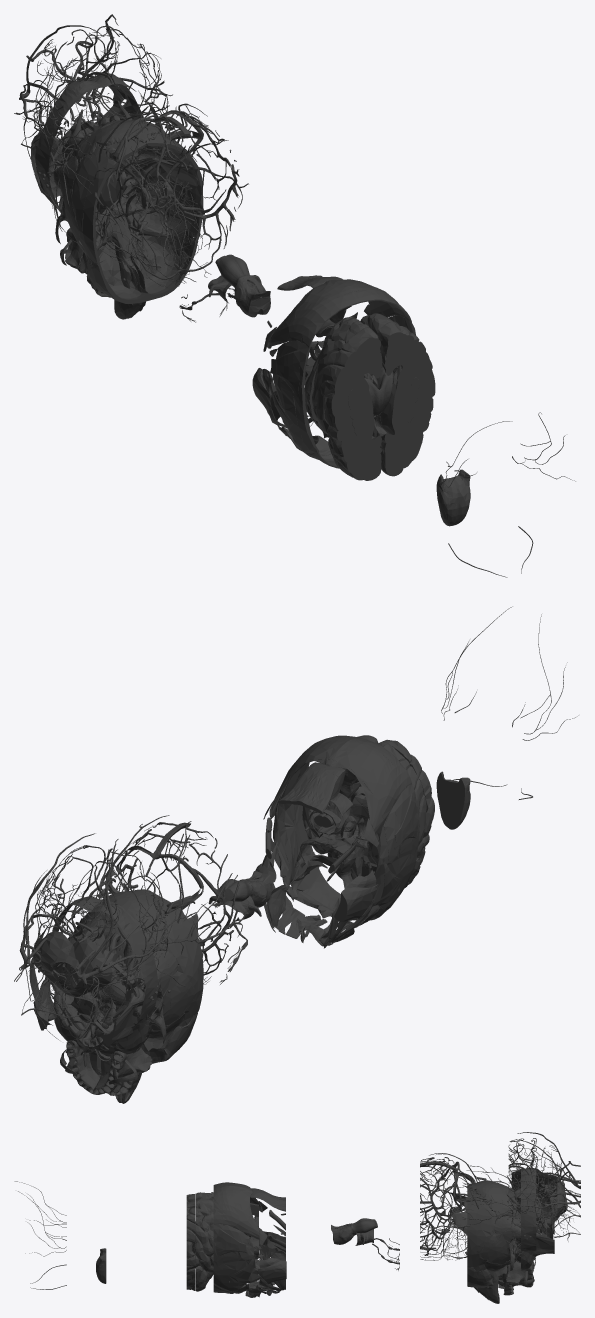
Rendered from sharedassets106.glb.
3 views of the same model, one above another, from view 1: azimuth 30°, elevation 25°; view 2: azimuth 150°, elevation 25°; view 3: azimuth 270°, elevation 25° (orthographic). The views are drawn at different scales.
Visible parts, largest first — view 1: 0645_Cerebrum, R__002137-01, 0650_Cerebrum, L__002124-01, 0793_Frontal__001097-02, 0529_Dura mater__020364-02, 1136_Cerebrum, R__002137-02, 0418_Parietal, R__001095-01, 0723_Tongue__1000432-05, 0433_Frontal__001097-01, 0761_Parietal, R__001095-02, 0841_Occipitofrontalis _epicranius_, R__10004, 0443_Occipitofrontalis _epicranius_, R__10004, 0458_Temporalis, R__1000417-01 (+6 smaller); view 2: 0529_Dura mater__020364-02, 1514_Dura mater, head region__302233-05, 1458_Mandible_body_001091-05, 0723_Tongue__1000432-05, 0761_Parietal, R__001095-02, 0841_Occipitofrontalis _epicranius_, R__10004, 1125_Occipitofrontalis _epicranius_, R__10004, 0873_Temporalis, L__1000416-02, 0869_Temporalis, R__1000417-02, 1136_Cerebrum, R__002137-02, 1460_Maxilla, R_body_001078_004-05, 0645_Cerebrum, R__002137-01 (+17 smaller); view 3: 0529_Dura mater__020364-02, 1140_Cerebrum, L__002124-02, 0765_Parietal, L__001094-02, 0650_Cerebrum, L__002124-01, 0873_Temporalis, L__1000416-02, 0423_Parietal, L__001094-01, 0865_Occipitofrontalis _epicranius_, L__10004, 1135_Temporal, L__001110-04, 1148_Occipitofrontalis _epicranius_, L__10004, 1458_Mandible_body_001091-05, 1316_Dura mater__020364-04, 0622_Temporalis, L__1000416-01 (+19 smaller).
Part boxes in pixels (x1,y1,x2,y2): 0645_Cerebrum, R__002137-01: [323, 327, 382, 480]; 0650_Cerebrum, L__002124-01: [377, 322, 435, 476]; 0793_Frontal__001097-02: [87, 235, 188, 295]; 0529_Dura mater__020364-02: [35, 73, 136, 237]; 1136_Cerebrum, R__002137-02: [312, 319, 369, 474]; 0418_Parietal, R__001095-01: [83, 139, 146, 264]; 0723_Tongue__1000432-05: [436, 469, 470, 526]; 0433_Frontal__001097-01: [92, 237, 198, 303]; 0761_Parietal, R__001095-02: [71, 141, 119, 264]; 0841_Occipitofrontalis _epicranius_, R__10004: [288, 282, 352, 463]; 0443_Occipitofrontalis _epicranius_, R__10004: [301, 292, 360, 468]; 0458_Temporalis, R__1000417-01: [293, 342, 319, 453]; 0529_Dura mater__020364-02: [54, 896, 158, 1056]; 1514_Dura mater, head region__302233-05: [32, 931, 112, 996]; 1458_Mandible_body_001091-05: [33, 971, 144, 1046]; 0723_Tongue__1000432-05: [436, 771, 470, 829]; 0761_Parietal, R__001095-02: [158, 901, 198, 1026]; 0841_Occipitofrontalis _epicranius_, R__10004: [340, 739, 404, 919]; 1125_Occipitofrontalis _epicranius_, R__10004: [331, 748, 392, 822]; 0873_Temporalis, L__1000416-02: [282, 768, 313, 891]; 0869_Temporalis, R__1000417-02: [384, 789, 412, 911]; 1136_Cerebrum, R__002137-02: [367, 741, 427, 888]; 1460_Maxilla, R_body_001078_004-05: [93, 1049, 149, 1094]; 0645_Cerebrum, R__002137-01: [382, 739, 434, 884]; 0529_Dura mater__020364-02: [521, 1168, 536, 1270]; 1140_Cerebrum, L__002124-02: [196, 1198, 211, 1291]; 0765_Parietal, L__001094-02: [476, 1194, 491, 1271]; 0650_Cerebrum, L__002124-01: [186, 1200, 195, 1290]; 0873_Temporalis, L__1000416-02: [223, 1225, 238, 1291]; 0423_Parietal, L__001094-01: [467, 1187, 476, 1270]; 0865_Occipitofrontalis _epicranius_, L__10004: [223, 1186, 238, 1293]; 1135_Temporal, L__001110-04: [502, 1216, 512, 1270]; 1148_Occipitofrontalis _epicranius_, L__10004: [238, 1186, 248, 1234]; 1458_Mandible_body_001091-05: [532, 1210, 554, 1255]; 1316_Dura mater__020364-04: [547, 1174, 557, 1238]; 0622_Temporalis, L__1000416-01: [213, 1224, 222, 1289].
Size of the model in its own units: 0.0688 by 0.1442 by 0.4443.
1 material, 1 textured.
